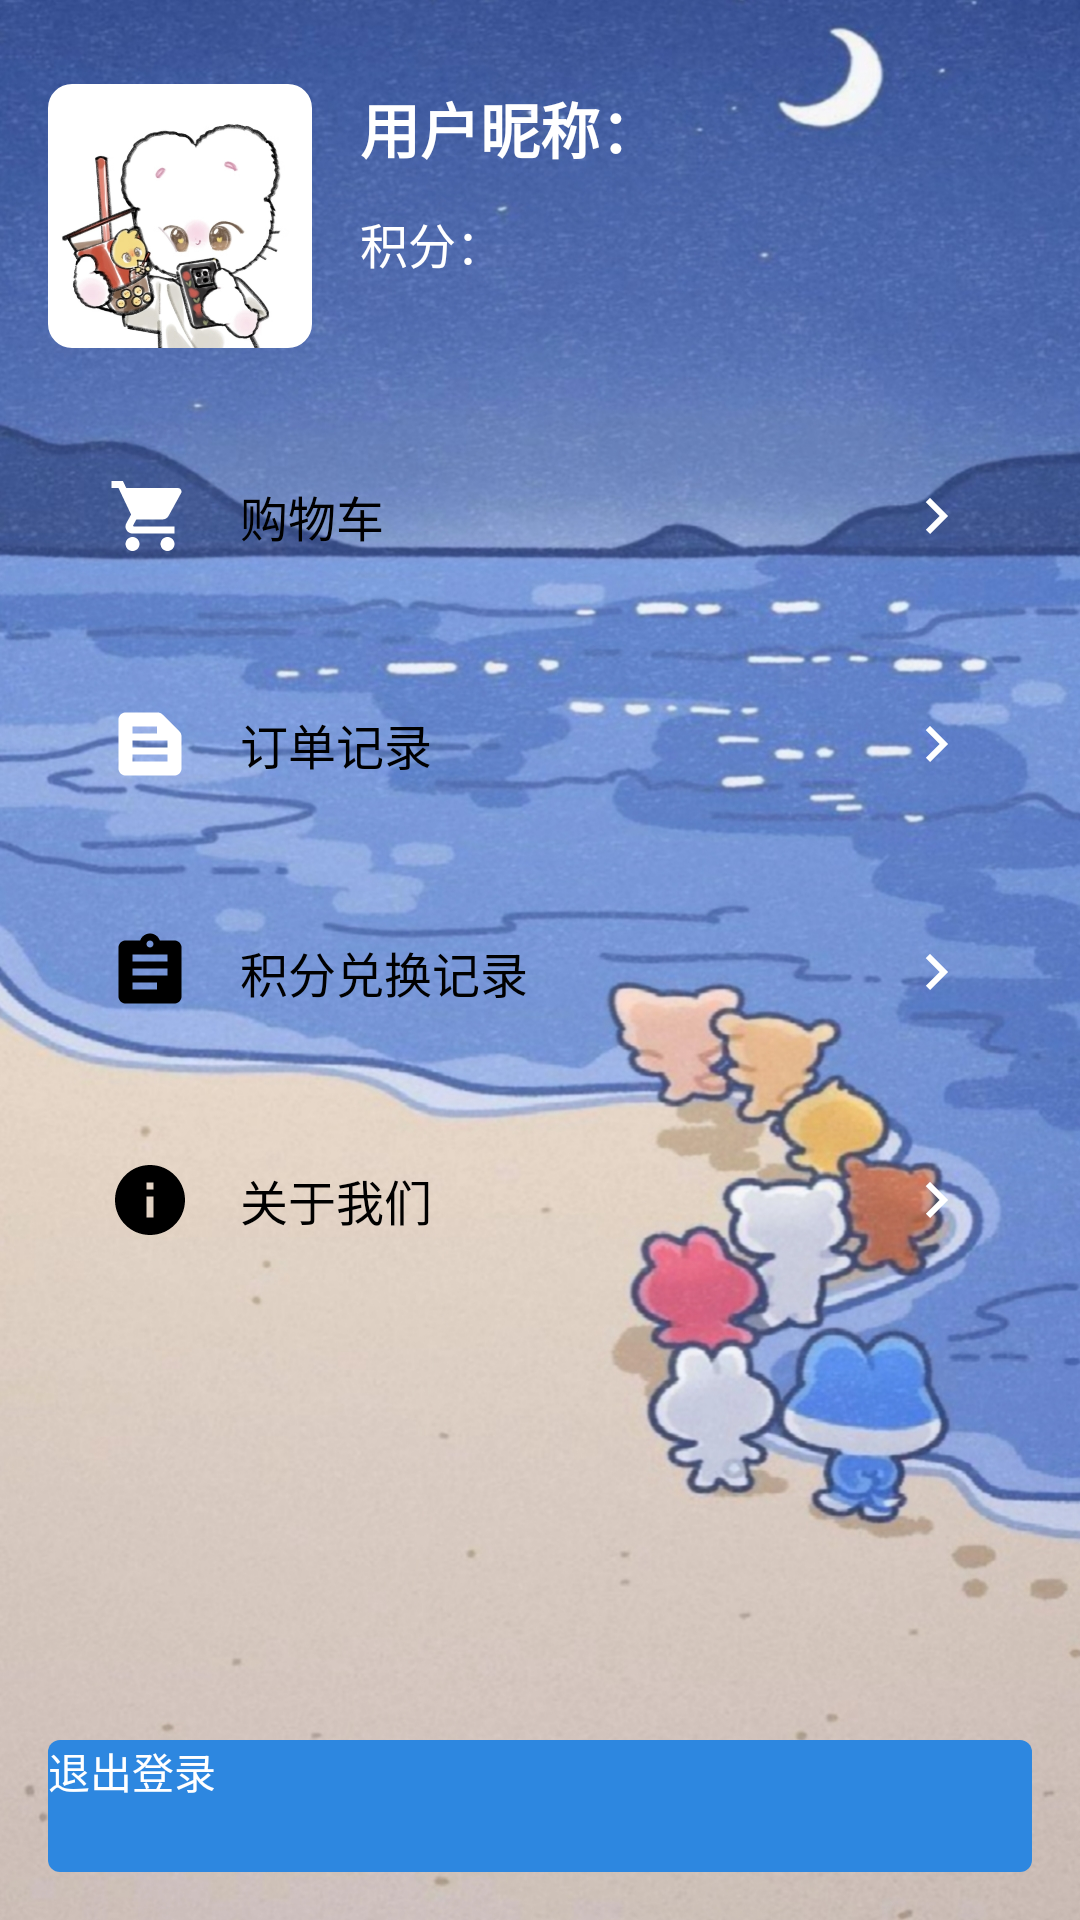

Where icons sit on this 1080px x 1920px app screen, as bbox=[x1, y1, x2, y2]:
about: bbox=[115, 1165, 185, 1235]
cart: bbox=[111, 481, 182, 555]
order: bbox=[108, 712, 192, 786]
user: bbox=[48, 84, 312, 348]
